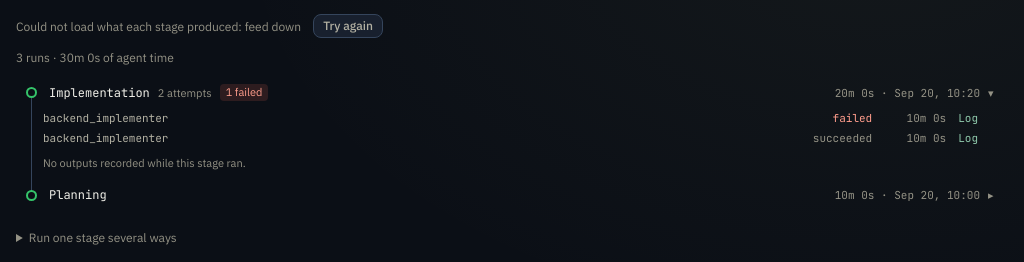
Test case: keeps the stages when the output feed fails, and retries the feed
expect the button "Planning 10m 0s · Sep 20, 10:00 ▸" is shown: met, box [16,180,1008,210]
expect the message shows "feed down": met, box [245,19,301,34]
Click the button "Try again" at (348, 26), box [313,14,383,38]
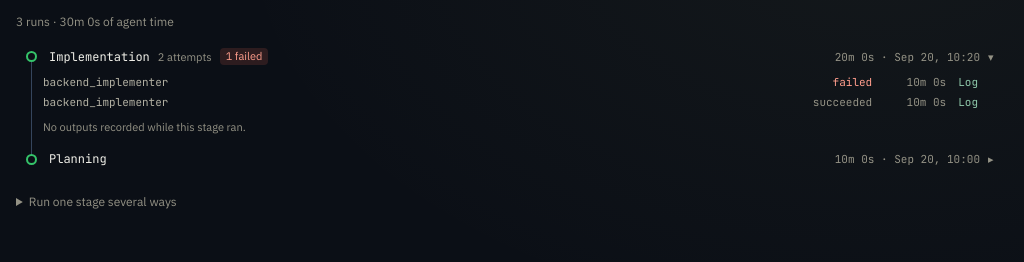
expect the message "Could not load what each stage produced: feed down Try again" is gone: met
